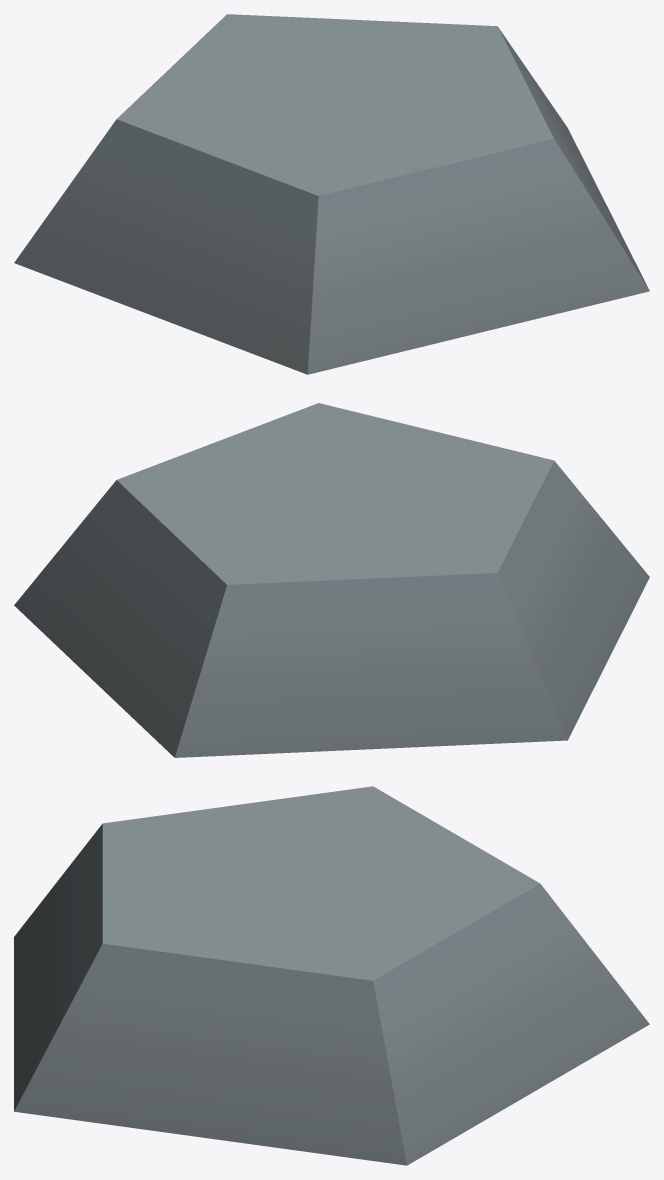
Rendered from rock_single_A.glb.
3 renders of one model, top to bottom at view 1: azimuth 30°, elevation 25°; view 2: azimuth 150°, elevation 25°; view 3: azimuth 270°, elevation 25°, orthographic. The views are drawn at different scales.
Visible parts, largest first — view 1: rock_single_A; view 2: rock_single_A; view 3: rock_single_A.
Boxes of the visible parts, bbox=[...] form: rock_single_A: bbox=[14, 14, 649, 374]; rock_single_A: bbox=[14, 403, 649, 757]; rock_single_A: bbox=[14, 786, 649, 1165].
Bounding box in the file's own units: 0.2982 × 0.0693 × 0.2836.
1 material, 1 textured.
